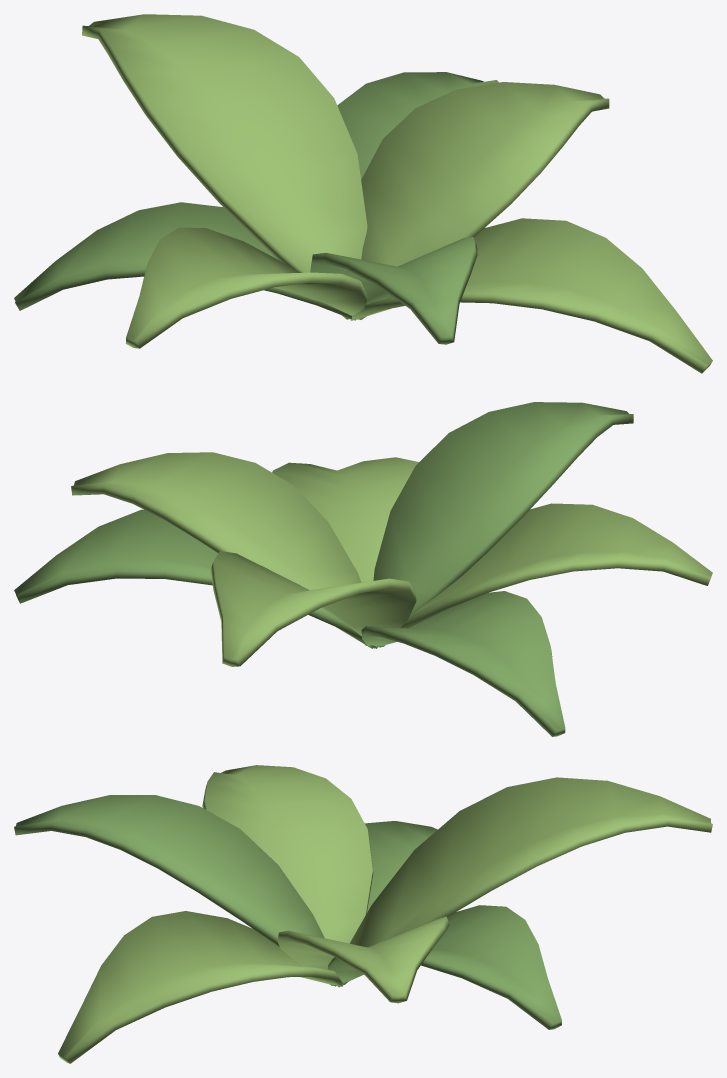
The model's file is Plant.gltf.
The picture shows the model from 3 angles, top to bottom: view 1: azimuth 30°, elevation 25°; view 2: azimuth 150°, elevation 25°; view 3: azimuth 270°, elevation 25°; orthographic projection. The views are drawn at different scales.
Visible parts, largest first — view 1: Plant; view 2: Plant; view 3: Plant.
Boxes of the visible parts, x1,y1,x2,y2 form: Plant: (14, 14, 712, 373); Plant: (14, 402, 712, 736); Plant: (14, 765, 712, 1063).
Size of the model in its own units: 0.8156 by 0.249 by 0.958.
